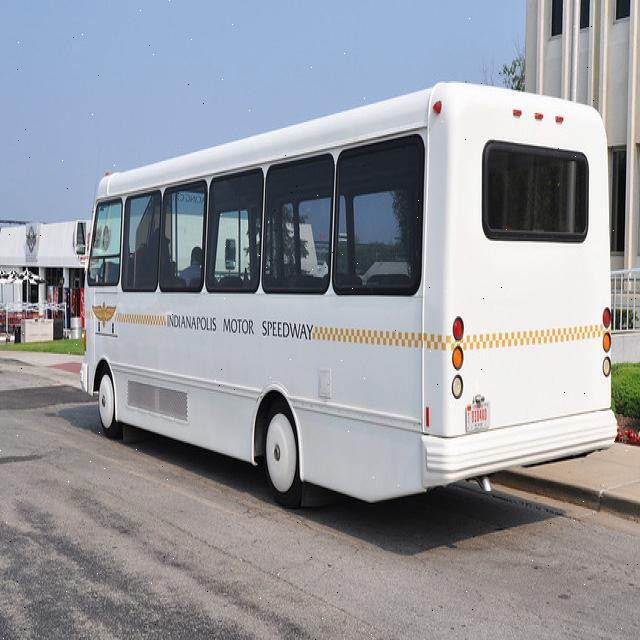Bus: (83, 82, 616, 504), (1, 270, 40, 340)
